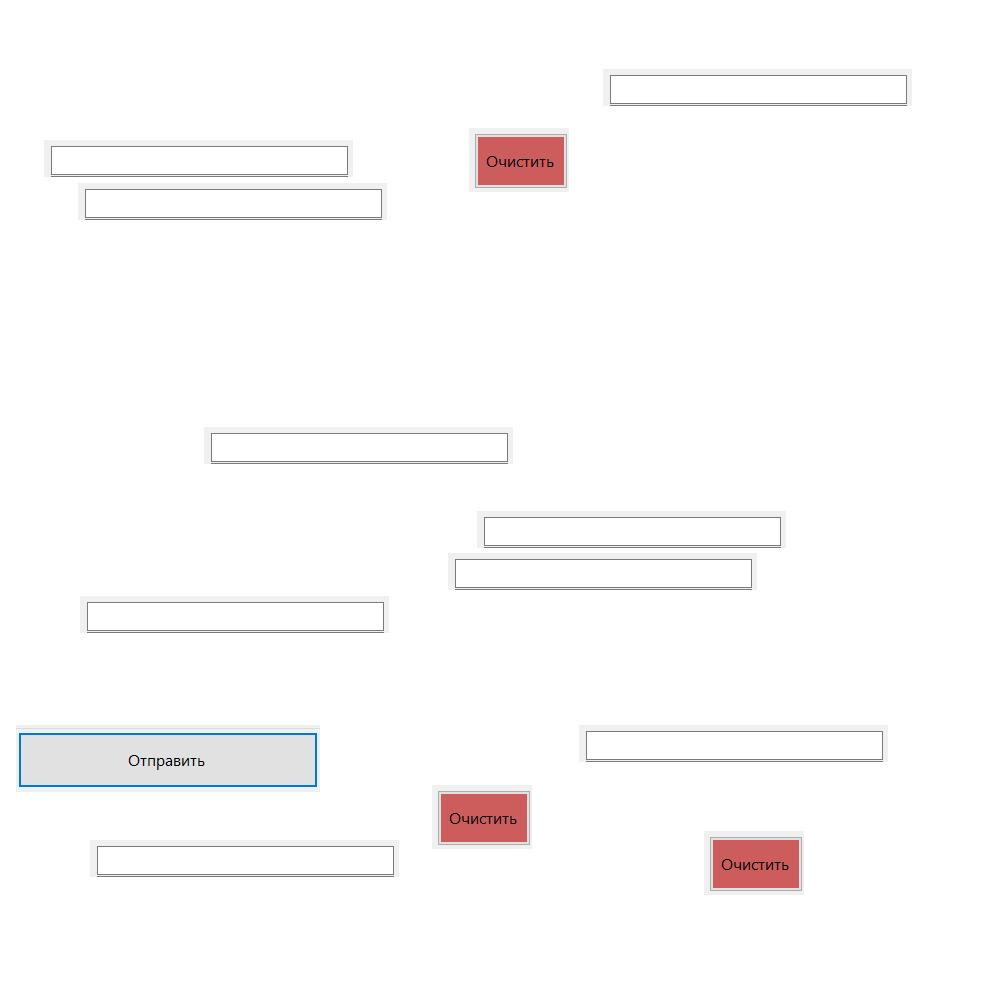Button: (16, 725, 320, 792), (469, 128, 569, 192), (432, 785, 532, 849), (704, 831, 804, 895)
EditText-: (448, 553, 757, 590), (603, 69, 912, 106), (44, 140, 353, 177), (90, 840, 399, 877), (579, 725, 888, 762), (78, 183, 387, 220), (477, 511, 786, 548), (80, 596, 389, 633), (204, 427, 513, 464)
